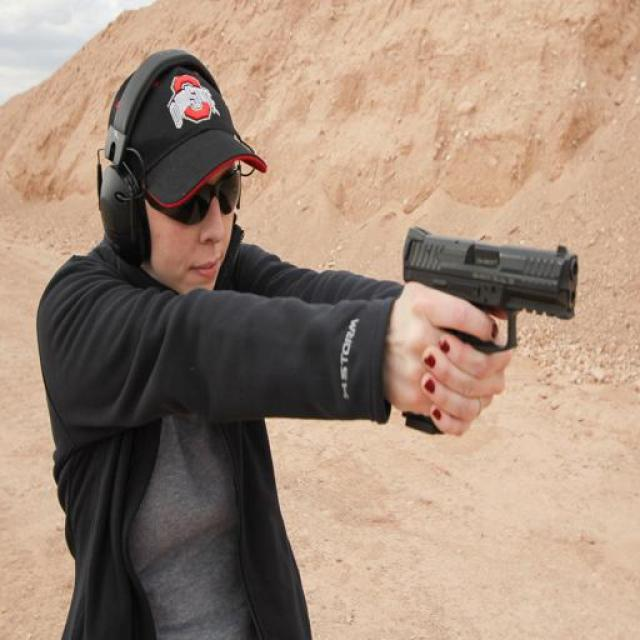pistol: (394, 215, 576, 474)
